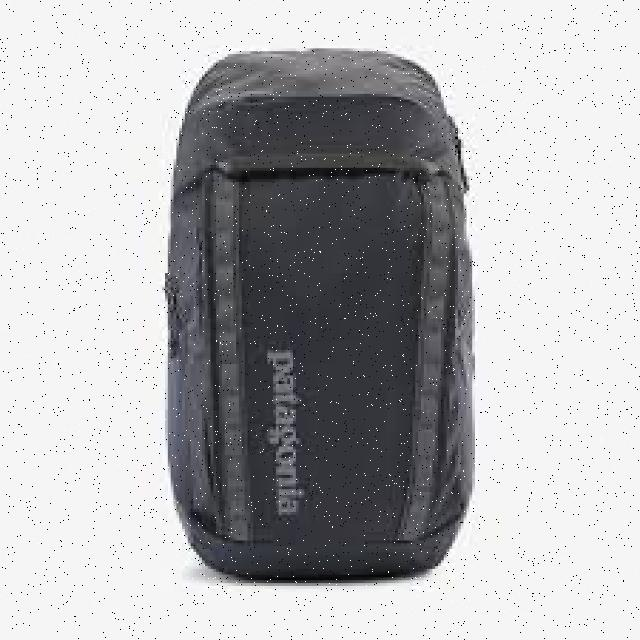backpack: (162, 46, 475, 580)
